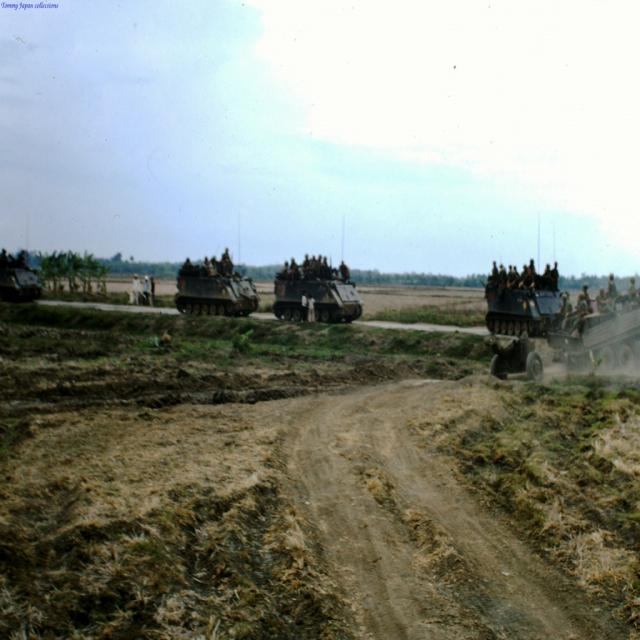tank: (273, 253, 365, 324), (171, 262, 258, 316), (484, 287, 568, 338), (1, 260, 43, 298)
